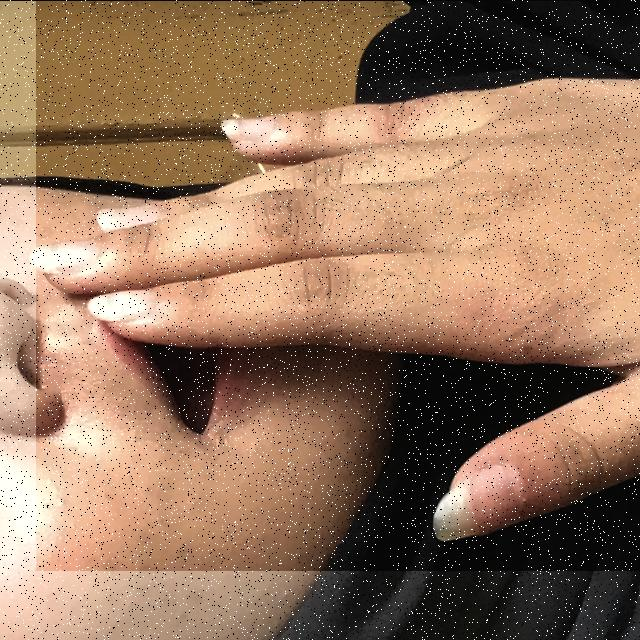ngantuk: (36, 0, 640, 570)
